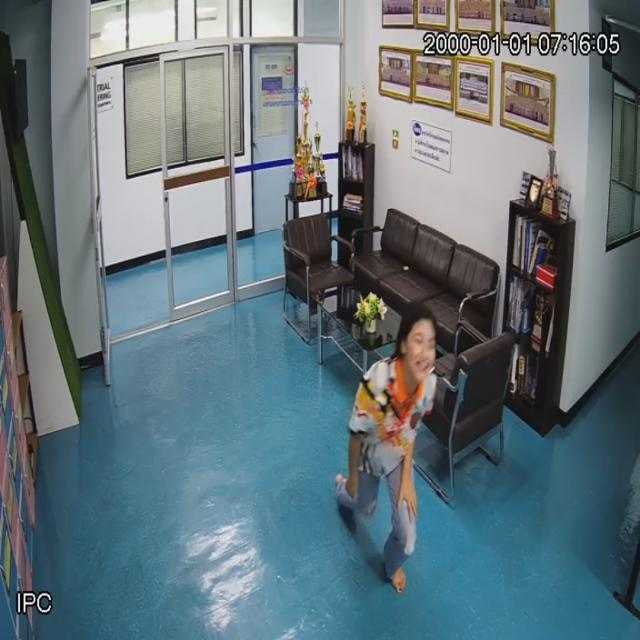normal: (328, 298, 438, 596)
